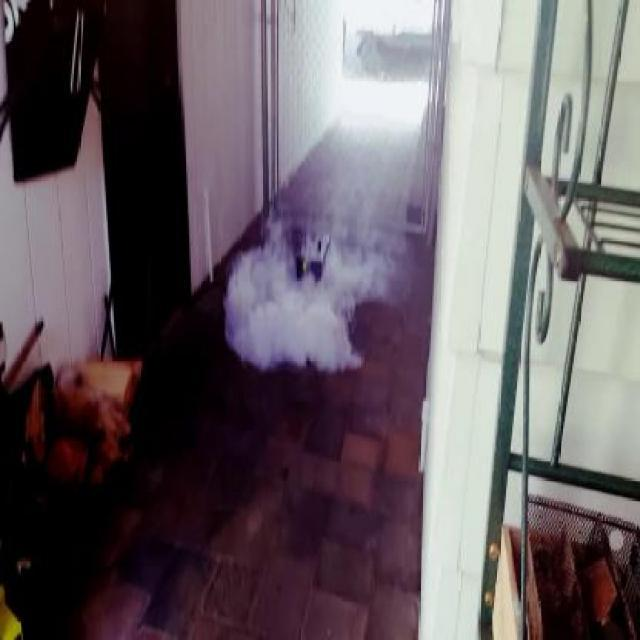smoke: (226, 215, 385, 371)
